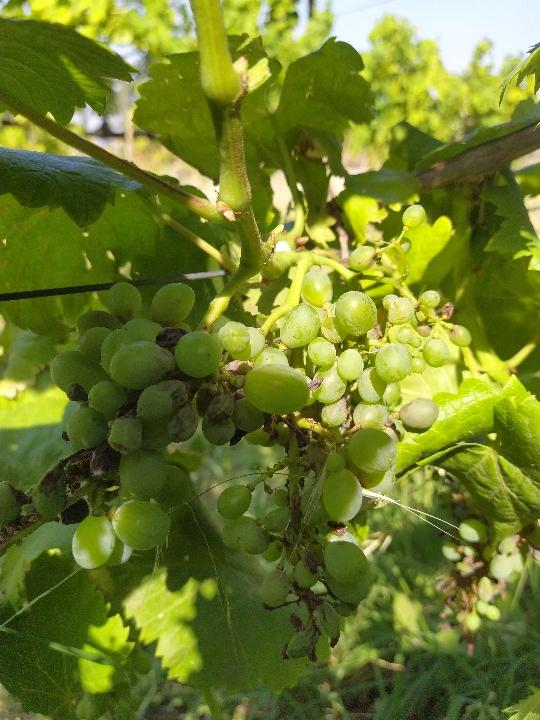grape: (44, 203, 472, 681)
